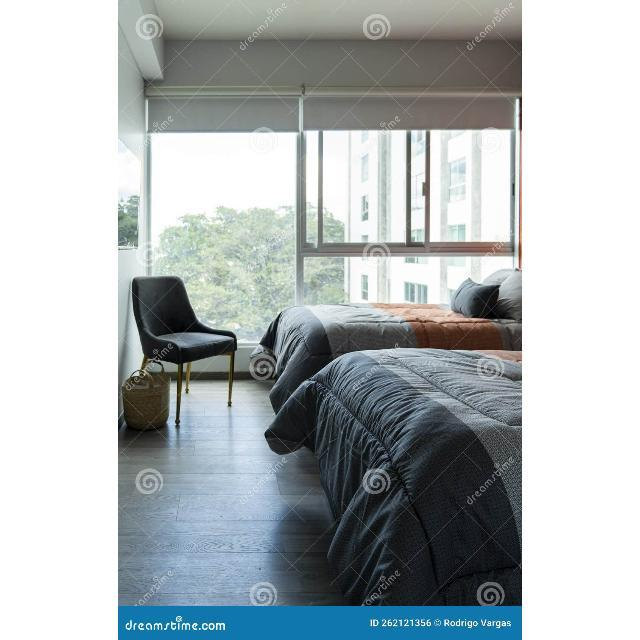bed: (260, 348, 522, 606), (246, 269, 522, 400)
chair: (128, 271, 239, 426)
pillow: (449, 276, 503, 317)
